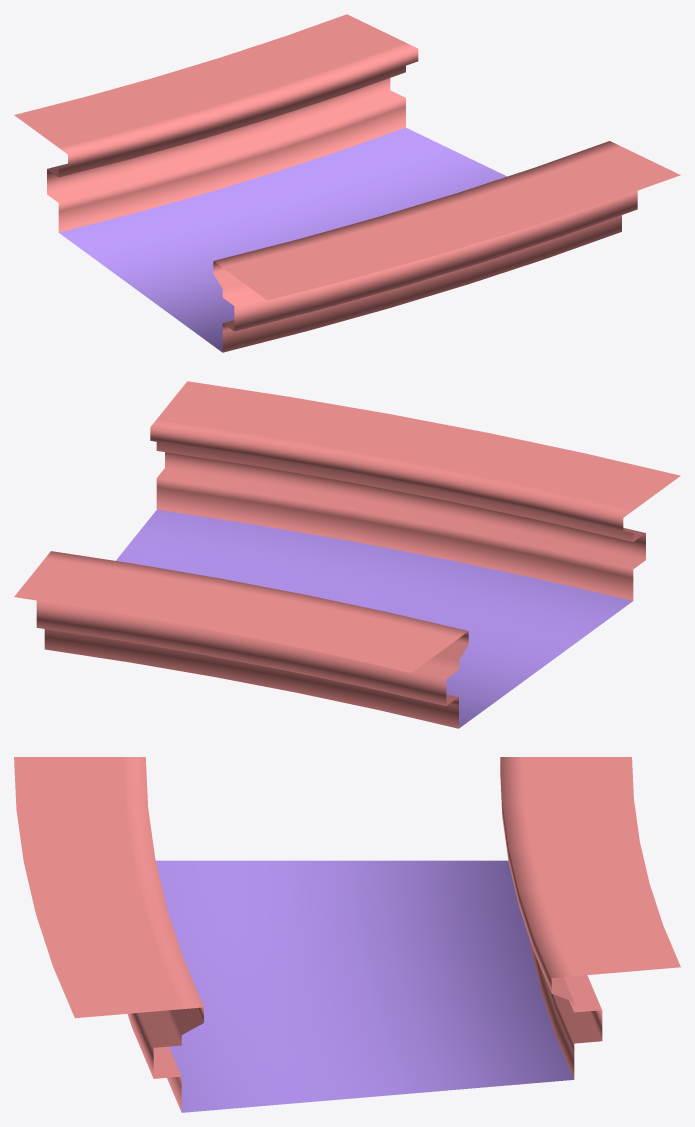
The model's file is Small_Tunnel_Platform_Bend.FBX.
3 views of the same model, one above another, from view 1: azimuth 30°, elevation 25°; view 2: azimuth 150°, elevation 25°; view 3: azimuth 270°, elevation 25° (orthographic). The views are drawn at different scales.
Visible parts, largest first — view 1: Small_Tunnel_Platform_Bend; view 2: Small_Tunnel_Platform_Bend; view 3: Small_Tunnel_Platform_Bend.
Boxes of the visible parts, x1,y1,x2,y2 form: Small_Tunnel_Platform_Bend: [14, 14, 680, 352]; Small_Tunnel_Platform_Bend: [14, 381, 680, 728]; Small_Tunnel_Platform_Bend: [14, 757, 680, 1112].
Size of the model in its own units: 5.4 by 5.83 by 1.
